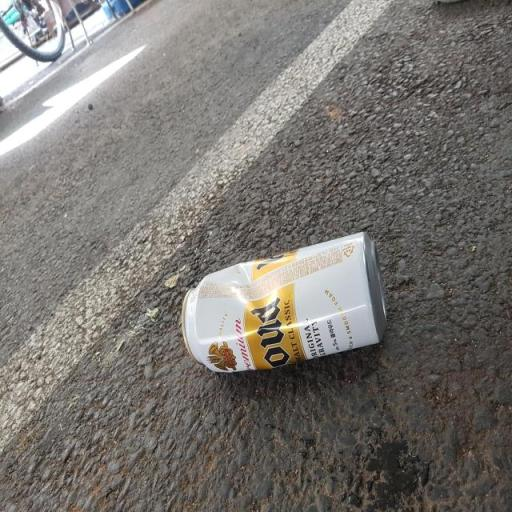metal: (160, 210, 428, 430)
